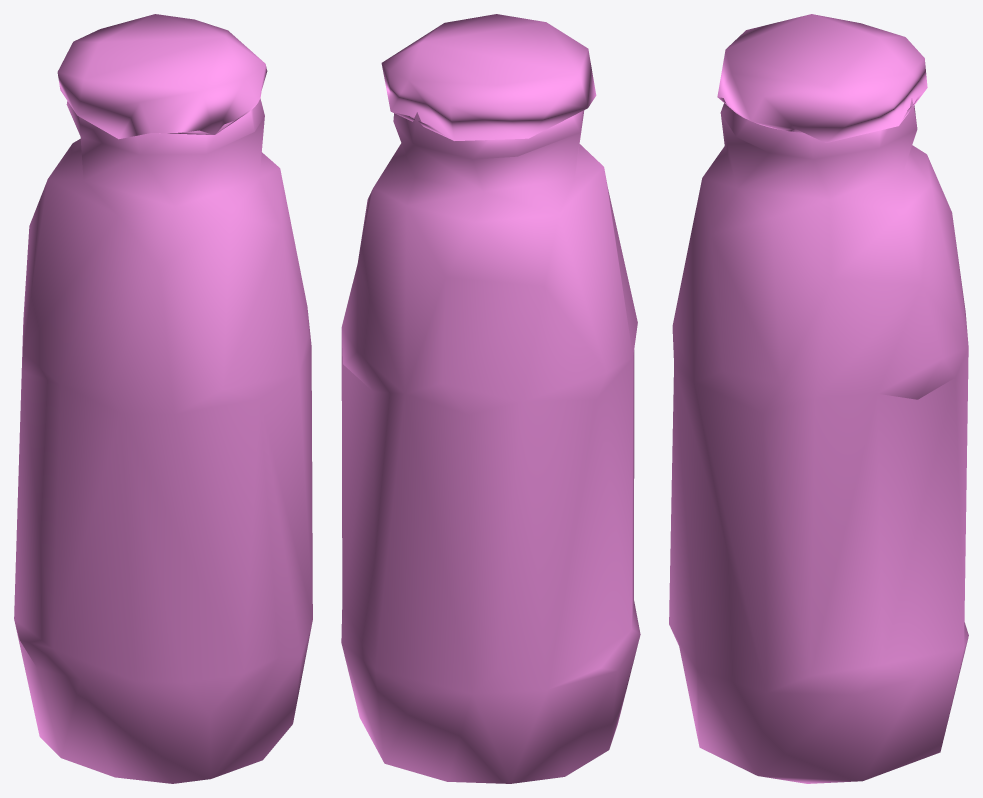
The model's file is juice.fbx.
3 views of the same model, side by side, from view 1: azimuth 30°, elevation 25°; view 2: azimuth 150°, elevation 25°; view 3: azimuth 270°, elevation 25° (orthographic).
Parts seen in each view (by area): view 1: juice; view 2: juice; view 3: juice.
Boxes of the visible parts, left/top/right/bottom form: juice: left=14, top=14, right=312, bottom=783; juice: left=341, top=14, right=640, bottom=783; juice: left=669, top=14, right=968, bottom=783.
Bounding box in the file's own units: 5.46 × 13.72 × 5.45.
